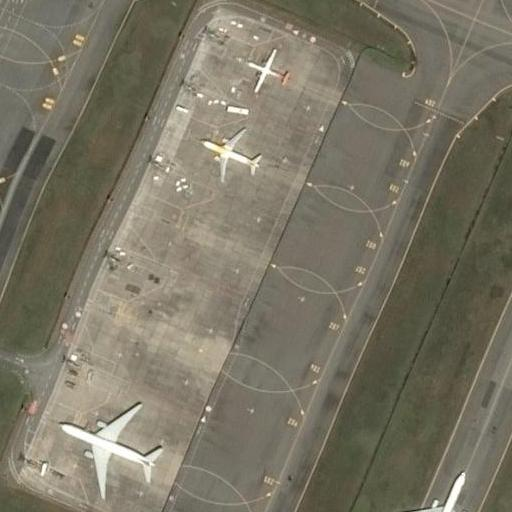Aircraft: (57, 401, 163, 499), (390, 462, 489, 512), (197, 127, 262, 181), (244, 48, 288, 91)
